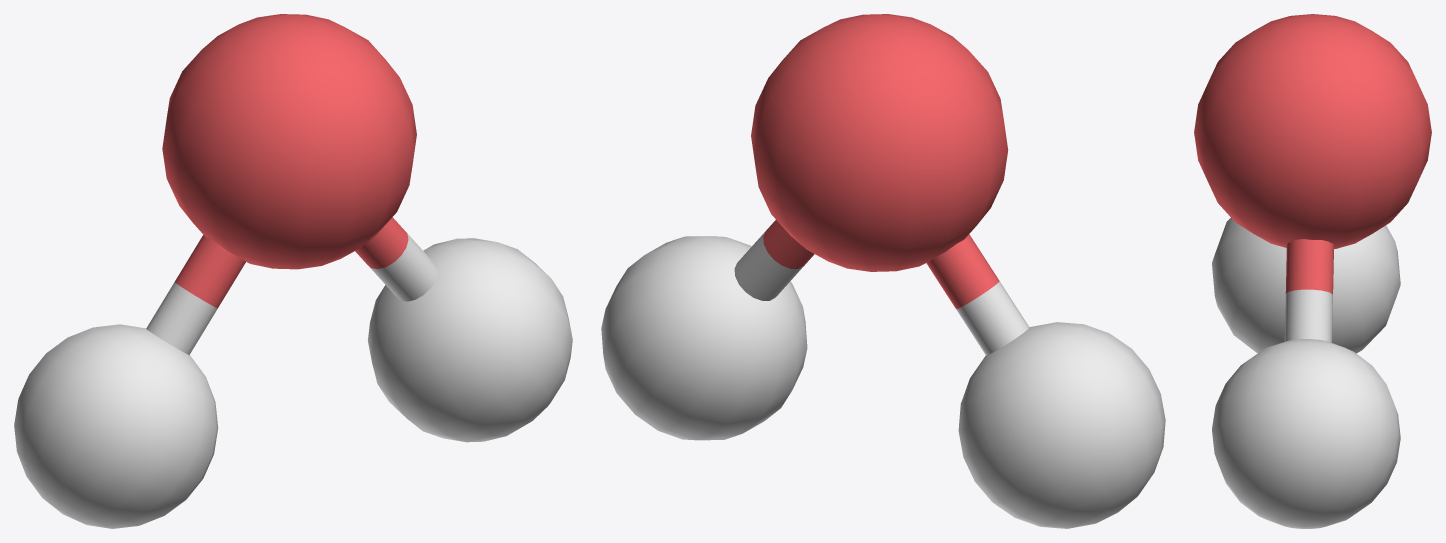
File: 02_Agua.fbx
3 views of the same model, side by side, from view 1: azimuth 30°, elevation 25°; view 2: azimuth 150°, elevation 25°; view 3: azimuth 270°, elevation 25° (orthographic). The views are drawn at different scales.
Parts seen in each view (by area): view 1: m_agua; view 2: m_agua; view 3: m_agua.
Boxes of the visible parts, x1,y1,x2,y2 form: m_agua: (14,14,572,528); m_agua: (601,14,1165,528); m_agua: (1194,14,1431,528).
Size of the model in its own units: 200 by 384 by 477.
